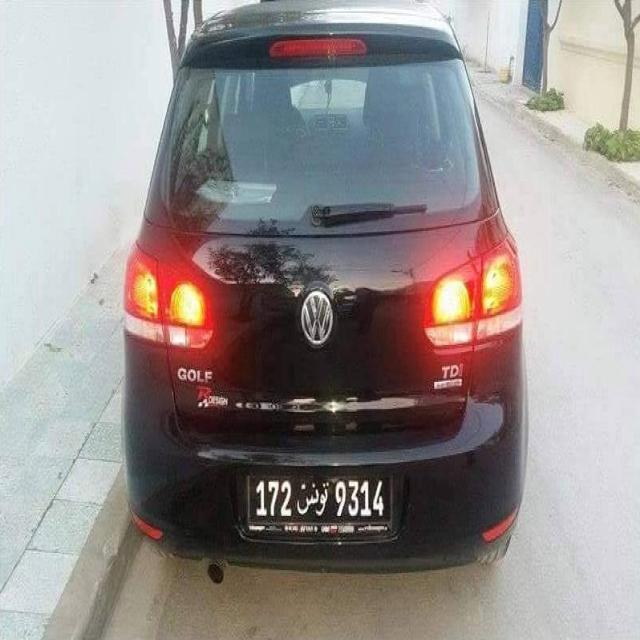licence plate: (248, 476, 393, 523)
